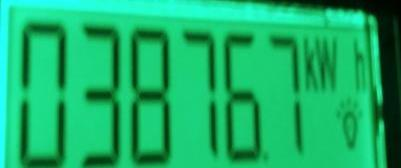.: (300, 36, 369, 91)
0: (261, 149, 271, 164)
1: (17, 21, 68, 167)
4: (77, 22, 124, 168)
7: (223, 29, 267, 160)
8: (177, 28, 223, 159), (269, 32, 305, 152)
9: (126, 26, 174, 167)
